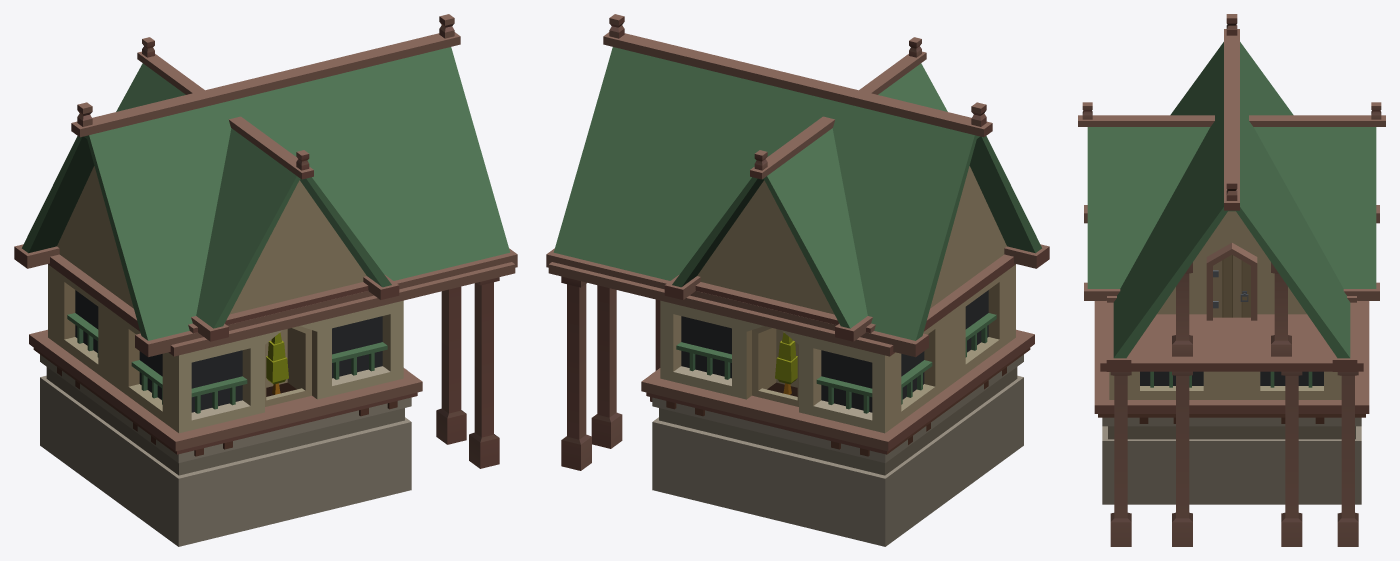
The model's file is SF_Bld_Elven_House_03.fbx.
3 views of the same model, side by side, from view 1: azimuth 30°, elevation 25°; view 2: azimuth 150°, elevation 25°; view 3: azimuth 270°, elevation 25° (orthographic). The views are drawn at different scales.
Visible parts, largest first — view 1: SF_Bld_Elven_House_03; view 2: SF_Bld_Elven_House_03; view 3: SF_Bld_Elven_House_03.
Part boxes in pixels (bbox=[...]): SF_Bld_Elven_House_03: bbox=[14, 14, 517, 546]; SF_Bld_Elven_House_03: bbox=[546, 14, 1049, 546]; SF_Bld_Elven_House_03: bbox=[1078, 14, 1385, 546].
Bounding box in the file's own units: 22.79 × 22.68 × 17.05.
